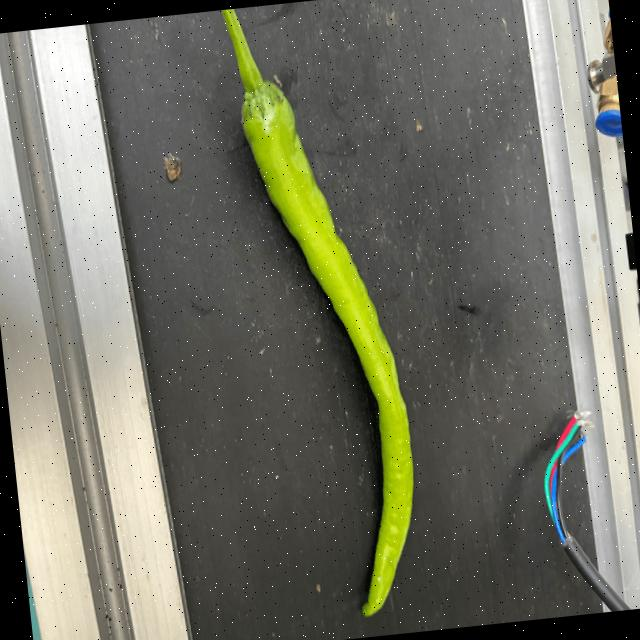chili: (239, 77, 414, 619)
